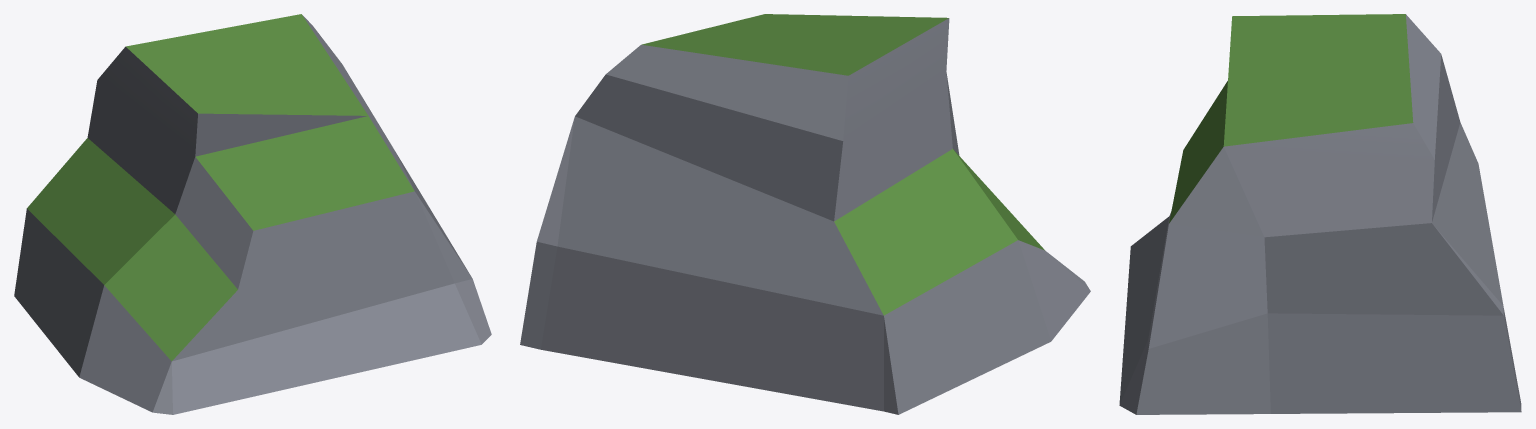
File: Rock_Moss_3.glb
The picture shows the model from 3 angles, left to right: view 1: azimuth 30°, elevation 25°; view 2: azimuth 150°, elevation 25°; view 3: azimuth 270°, elevation 25°; orthographic projection. The views are drawn at different scales.
Parts seen in each view (by area): view 1: Rock_Moss_3; view 2: Rock_Moss_3; view 3: Rock_Moss_3.
Boxes of the visible parts, <box> form: Rock_Moss_3: <box>14,14,491,414</box>; Rock_Moss_3: <box>520,14,1090,414</box>; Rock_Moss_3: <box>1119,14,1521,414</box>.
Size of the model in its own units: 0.8384 by 0.5786 by 0.7681.
